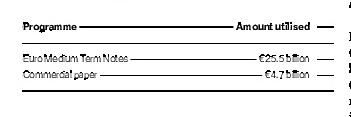table: (0, 0, 351, 117)
